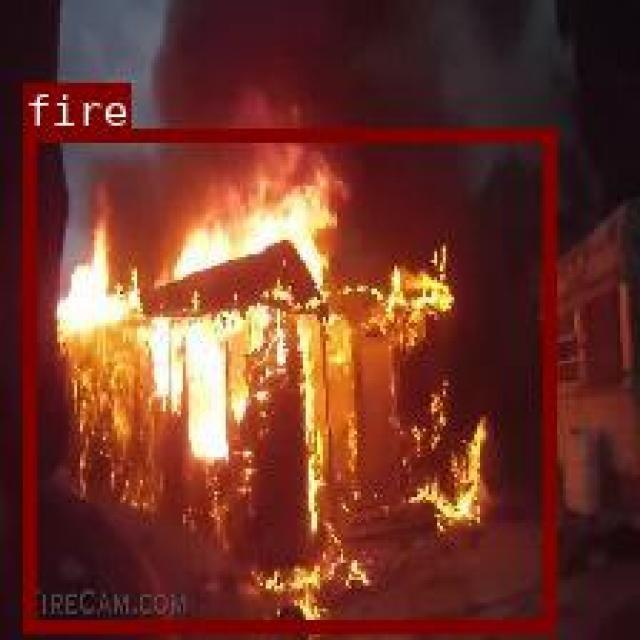fire: (21, 129, 554, 631)
